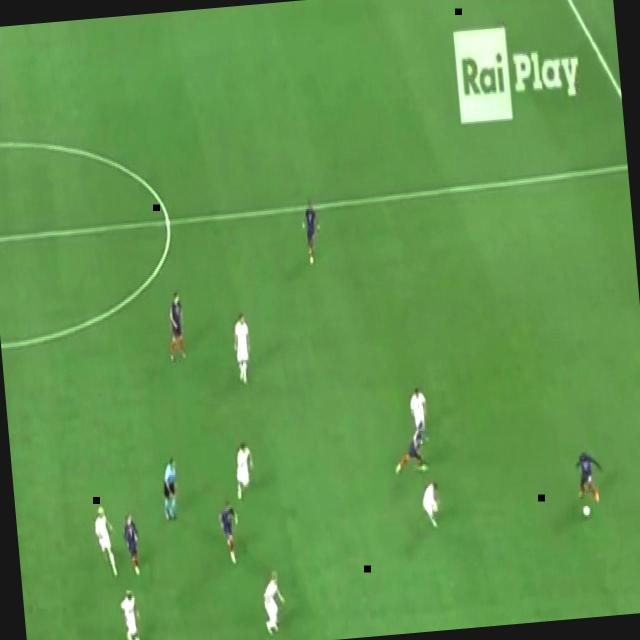ball: (582, 504, 592, 520)
player-white: (390, 419, 431, 477), (91, 502, 121, 580), (258, 567, 290, 639), (572, 448, 607, 507), (214, 498, 243, 568), (298, 197, 325, 269), (162, 290, 188, 364), (230, 311, 254, 387), (115, 585, 147, 640), (157, 454, 182, 524), (232, 439, 257, 503), (120, 510, 142, 579), (418, 478, 444, 532), (406, 384, 430, 436)
